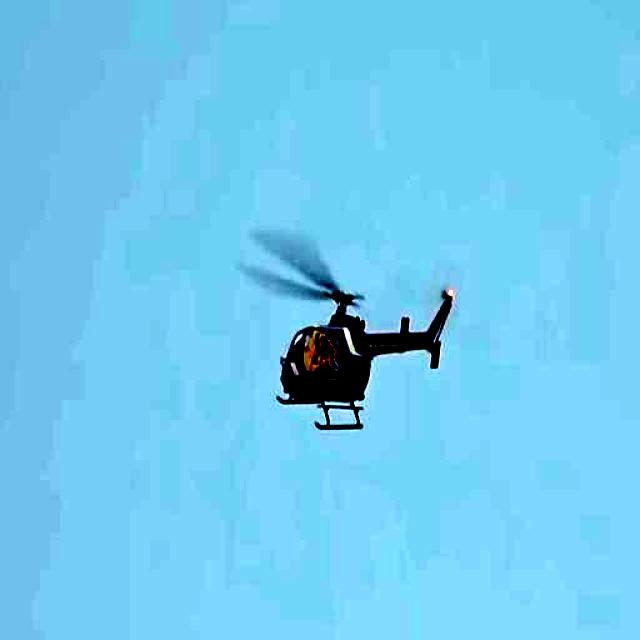drone: (264, 280, 466, 431)
